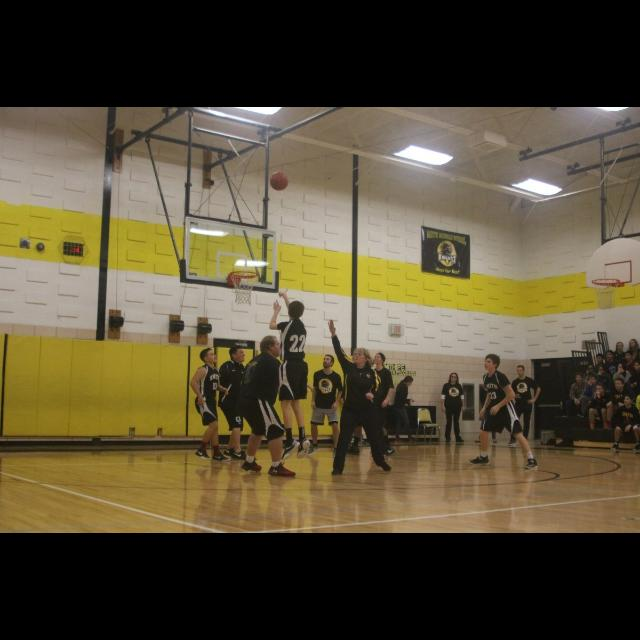head: (260, 336, 282, 358), (287, 300, 305, 320), (352, 348, 370, 366), (229, 345, 247, 363), (484, 354, 500, 372), (201, 348, 219, 364), (360, 356, 374, 370), (323, 355, 335, 369), (516, 366, 526, 378), (596, 384, 606, 396), (616, 379, 626, 391), (450, 373, 460, 383), (624, 396, 634, 406), (588, 376, 598, 386), (624, 352, 634, 362), (598, 368, 608, 377), (406, 377, 414, 388), (606, 351, 614, 362), (575, 374, 583, 384), (618, 364, 626, 374), (616, 342, 624, 352), (630, 339, 638, 349), (596, 356, 604, 364), (588, 366, 594, 376)
person: (327, 318, 393, 478), (237, 334, 297, 480), (468, 353, 540, 472), (268, 288, 312, 462), (342, 352, 396, 456), (189, 346, 233, 464), (306, 354, 344, 462), (218, 343, 252, 462), (508, 364, 542, 448), (391, 375, 419, 447), (439, 372, 466, 446), (604, 378, 636, 432), (588, 381, 614, 431), (580, 374, 606, 420), (567, 374, 589, 418), (602, 350, 624, 390), (612, 362, 632, 403), (590, 352, 610, 390), (609, 342, 629, 380), (595, 365, 613, 399), (582, 365, 598, 397)
